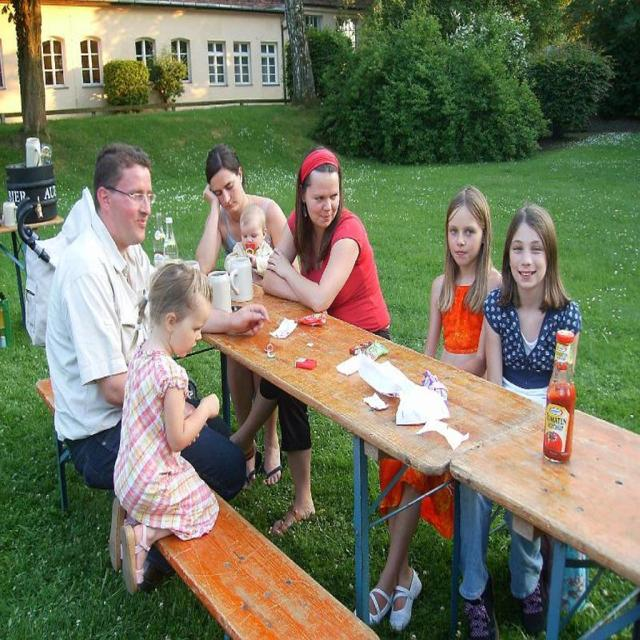Face: (110, 162, 160, 239), (298, 168, 350, 228), (513, 225, 555, 295), (173, 294, 208, 367), (445, 200, 479, 263), (235, 208, 273, 257), (214, 174, 244, 213)
